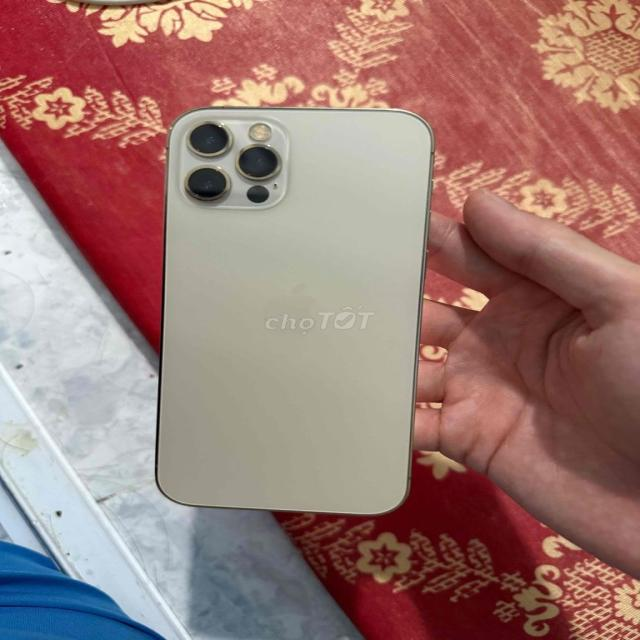gen_12_13: (145, 102, 439, 524)
